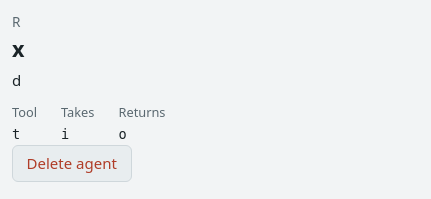
Test case: AgentSummary delete › has no Delete button unless it can delete, and asks once before deleting
Later steps or results of the test are not shown.
Click the button "Delete agent": (72, 164) [12,145,132,182]
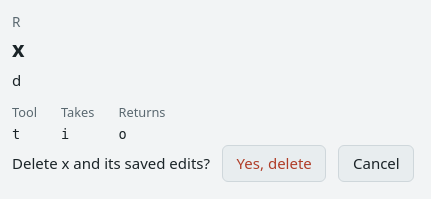
Click the button "Cancel": (376, 164) [338,145,414,182]
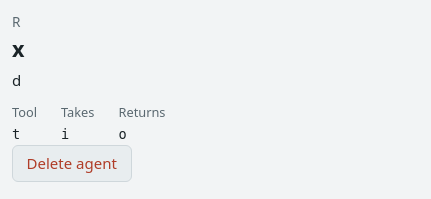
Click the button "Delete agent": (72, 164) [12,145,132,182]
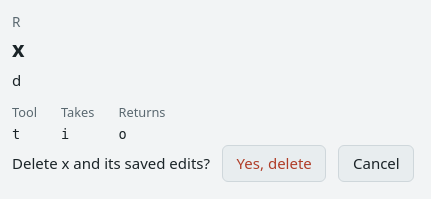
Result: the text "Delete x and its saved edits?" is shown at [12,152,210,175]
